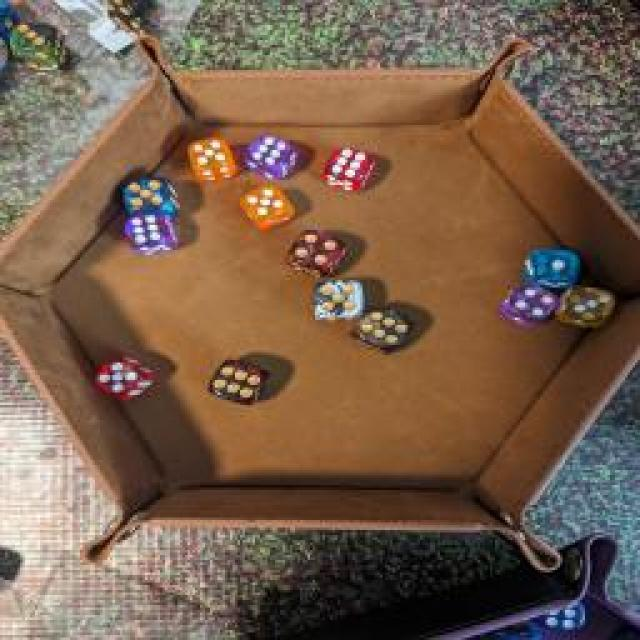dice_1: (520, 246, 585, 289)
dice_3: (554, 284, 621, 326)
dice_4: (284, 225, 354, 280), (495, 280, 557, 328)
dice_5: (89, 351, 156, 404), (302, 276, 370, 324), (234, 180, 298, 230), (182, 134, 240, 184), (117, 175, 185, 217)
dice_6: (202, 355, 272, 405), (354, 302, 418, 352), (314, 146, 381, 189), (243, 135, 305, 180), (122, 214, 180, 258)
